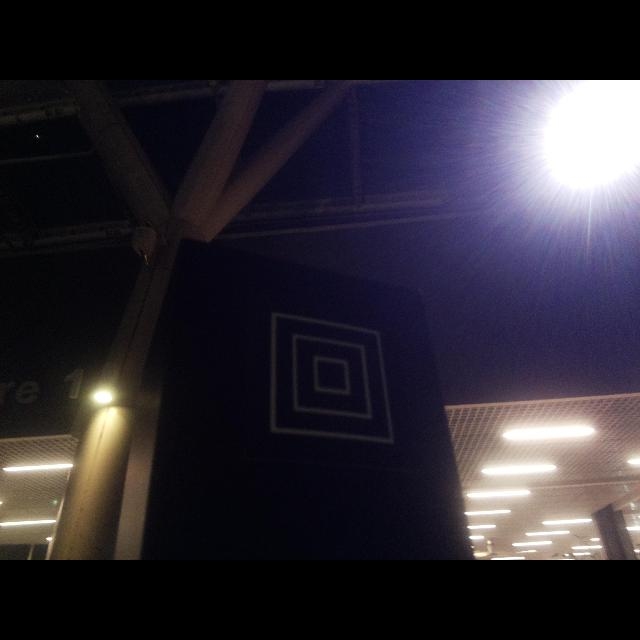BULLSEYE: (269, 312, 394, 445)
